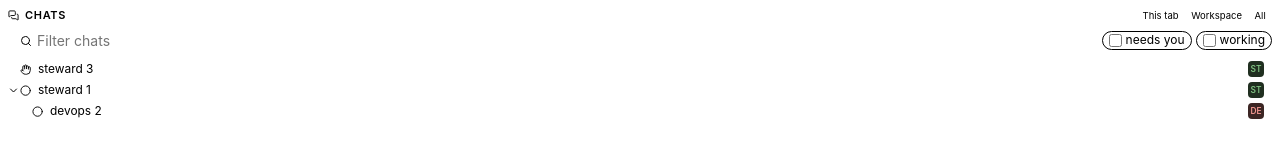
This tab, in its rarer cases (#1696) › lists nothing with a view tab in front, and names every chat that needs you as outside it
Click the radio button labelled "This tab" at (1161, 16), box [1136, 8, 1185, 23]
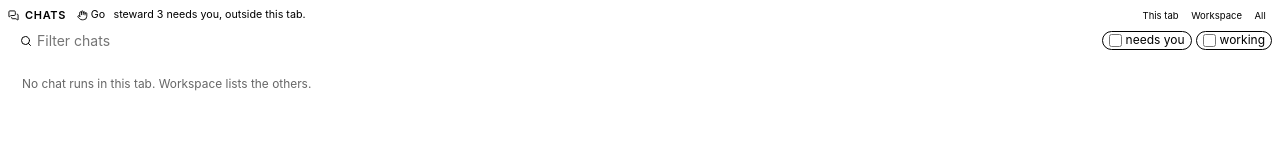
Check: the text "steward 3 needs you, outside this tab." is shown, box [114, 8, 306, 23]
